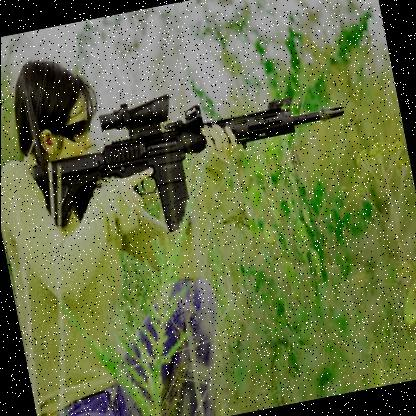rifle: (21, 58, 367, 255)
